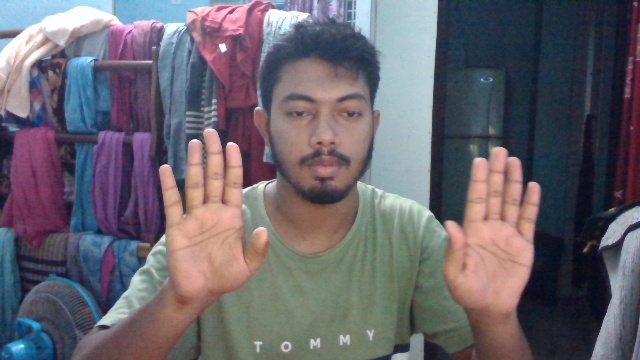thanks: (155, 122, 546, 309)
